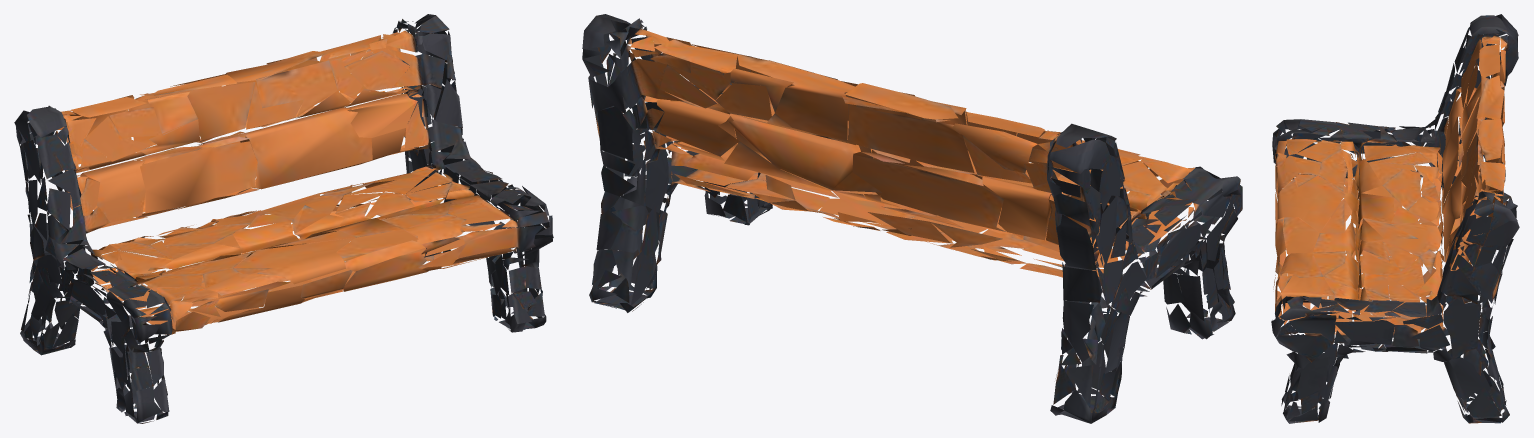
Rendered from bench.glb.
3 views of the same model, side by side, from view 1: azimuth 30°, elevation 25°; view 2: azimuth 150°, elevation 25°; view 3: azimuth 270°, elevation 25° (orthographic). The views are drawn at different scales.
Visible parts, largest first — view 1: Mesh_0; view 2: Mesh_0; view 3: Mesh_0.
Part boxes in pixels (<box>): Mesh_0: <box>14,14,553,423</box>; Mesh_0: <box>582,14,1242,423</box>; Mesh_0: <box>1271,14,1519,423</box>.
Bounding box in the file's own units: 1.91 × 1.02 × 1.04.
Materials: 1 (1 with a texture image).
